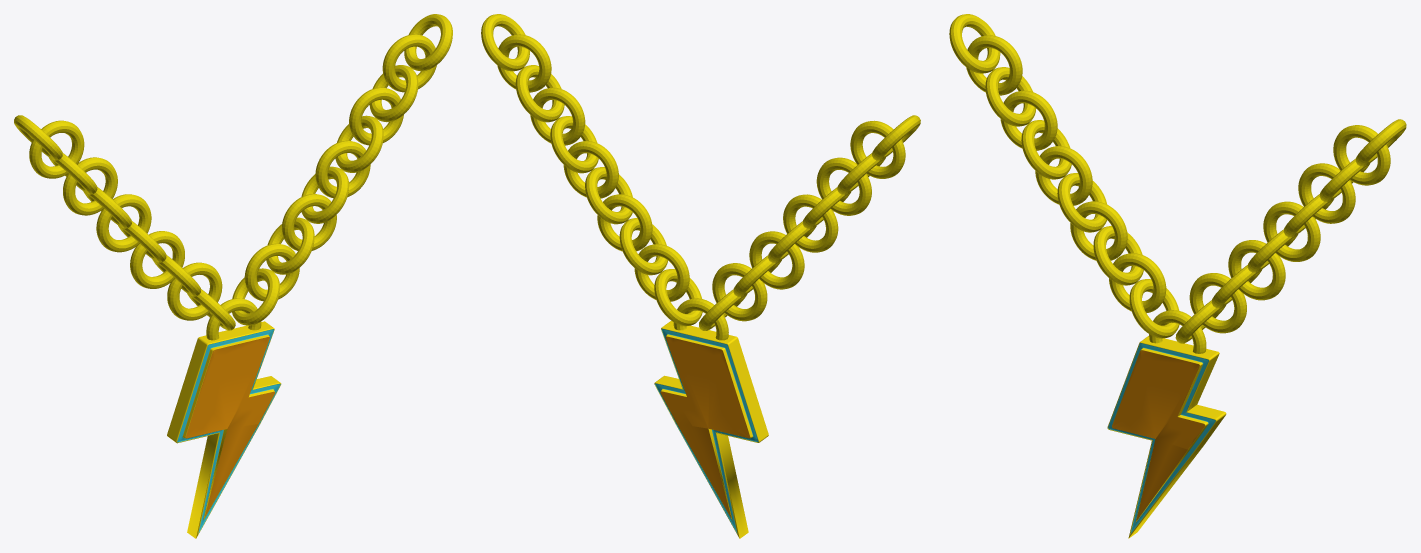
Rendered from Bolt_necklace.fbx.
3 views of the same model, side by side, from view 1: azimuth 30°, elevation 25°; view 2: azimuth 150°, elevation 25°; view 3: azimuth 330°, elevation 25° (orthographic). The views are drawn at different scales.
Visible parts, largest first — view 1: bolt.inner, bolt, Torus.006, Torus.005, Torus.003, Torus.004, Torus.001, Torus.022, Torus.014, Torus.015, Torus.013, Torus.016 (+13 smaller); view 2: bolt.inner, bolt, Torus.003, Torus.006, Torus.005, Torus.004, Torus.001, Torus.014, Torus.022, Torus.015, Torus.013, Torus.016 (+13 smaller); view 3: bolt.inner, bolt, Torus.017, Torus.016, Torus.015, Torus.014, Torus.013, Torus.003, Torus.011, Torus.004, Torus.001, Torus.005 (+13 smaller).
Boxes of the visible parts, x1,y1,x2,y2 form: bolt.inner: (185, 337, 274, 517); bolt: (167, 321, 281, 538); Torus.006: (29, 120, 84, 178); Torus.005: (63, 157, 117, 215); Torus.003: (130, 231, 184, 288); Torus.004: (96, 194, 151, 252); Torus.001: (167, 262, 222, 320); Torus.022: (404, 14, 452, 71); Torus.014: (282, 194, 336, 250); Torus.015: (315, 140, 370, 198); Torus.013: (244, 243, 299, 301); Torus.016: (349, 87, 403, 145); bolt.inner: (660, 336, 749, 517); bolt: (654, 321, 768, 538); Torus.003: (749, 231, 804, 289); Torus.006: (850, 120, 905, 178); Torus.005: (816, 157, 871, 215); Torus.004: (783, 194, 838, 252); Torus.001: (712, 263, 767, 321); Torus.014: (597, 194, 652, 251); Torus.022: (481, 14, 529, 71); Torus.015: (563, 141, 618, 198); Torus.013: (634, 244, 689, 301); Torus.016: (530, 87, 585, 145); bolt.inner: (1112, 350, 1204, 520); bolt: (1107, 336, 1226, 538); Torus.017: (1333, 125, 1390, 185); Torus.016: (1298, 163, 1355, 223); Torus.015: (1263, 201, 1320, 261); Torus.014: (1228, 240, 1285, 300); Torus.013: (1189, 273, 1246, 333); Torus.003: (1070, 201, 1127, 260); Torus.011: (949, 14, 1000, 73); Torus.004: (1035, 146, 1092, 205); Torus.001: (1109, 253, 1166, 313); Torus.005: (1000, 90, 1057, 150).
Size of the model in its own units: 2000 by 2043 by 250.
